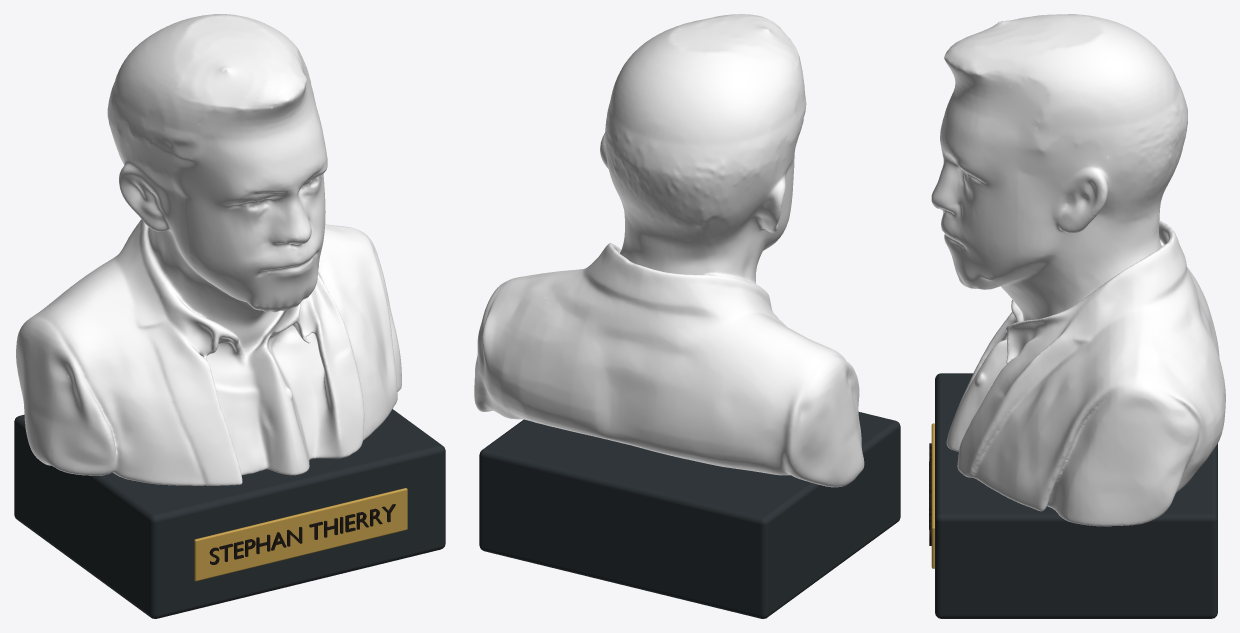
File: bust_hybrid.glb
3 views of the same model, side by side, from view 1: azimuth 30°, elevation 25°; view 2: azimuth 150°, elevation 25°; view 3: azimuth 270°, elevation 25° (orthographic). The views are drawn at different scales.
Parts seen in each view (by area): view 1: Bust, Plinth, Plaque, PlaqueText; view 2: Bust, Plinth; view 3: Bust, Plinth, Plaque.
Boxes of the visible parts, x1,y1,x2,y2 form: Bust: [16, 14, 401, 485]; Plinth: [14, 409, 445, 618]; Plaque: [194, 488, 407, 581]; PlaqueText: [209, 504, 395, 564]; Bust: [474, 14, 864, 487]; Plinth: [479, 412, 900, 618]; Bust: [931, 14, 1225, 526]; Plinth: [935, 373, 1217, 618]; Plaque: [931, 423, 934, 568].
Bounding box in the file's own units: 3.26 × 4.42 × 2.31.
